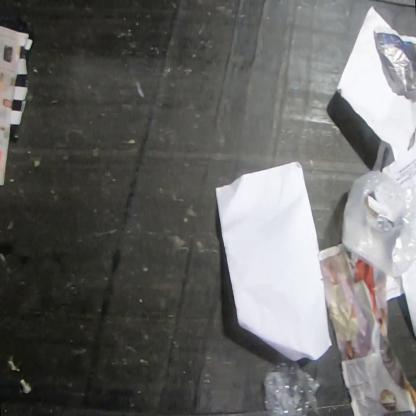rigid_plastic: (261, 352, 321, 415)
soft_plastic: (341, 168, 415, 278)
